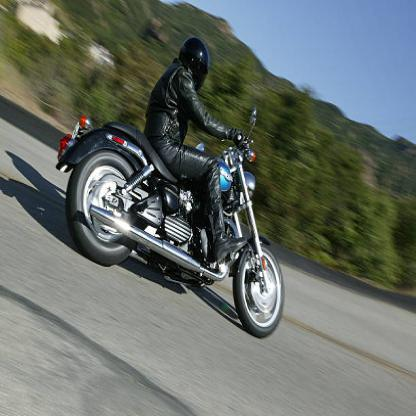Motorcycle: (58, 102, 289, 337)
